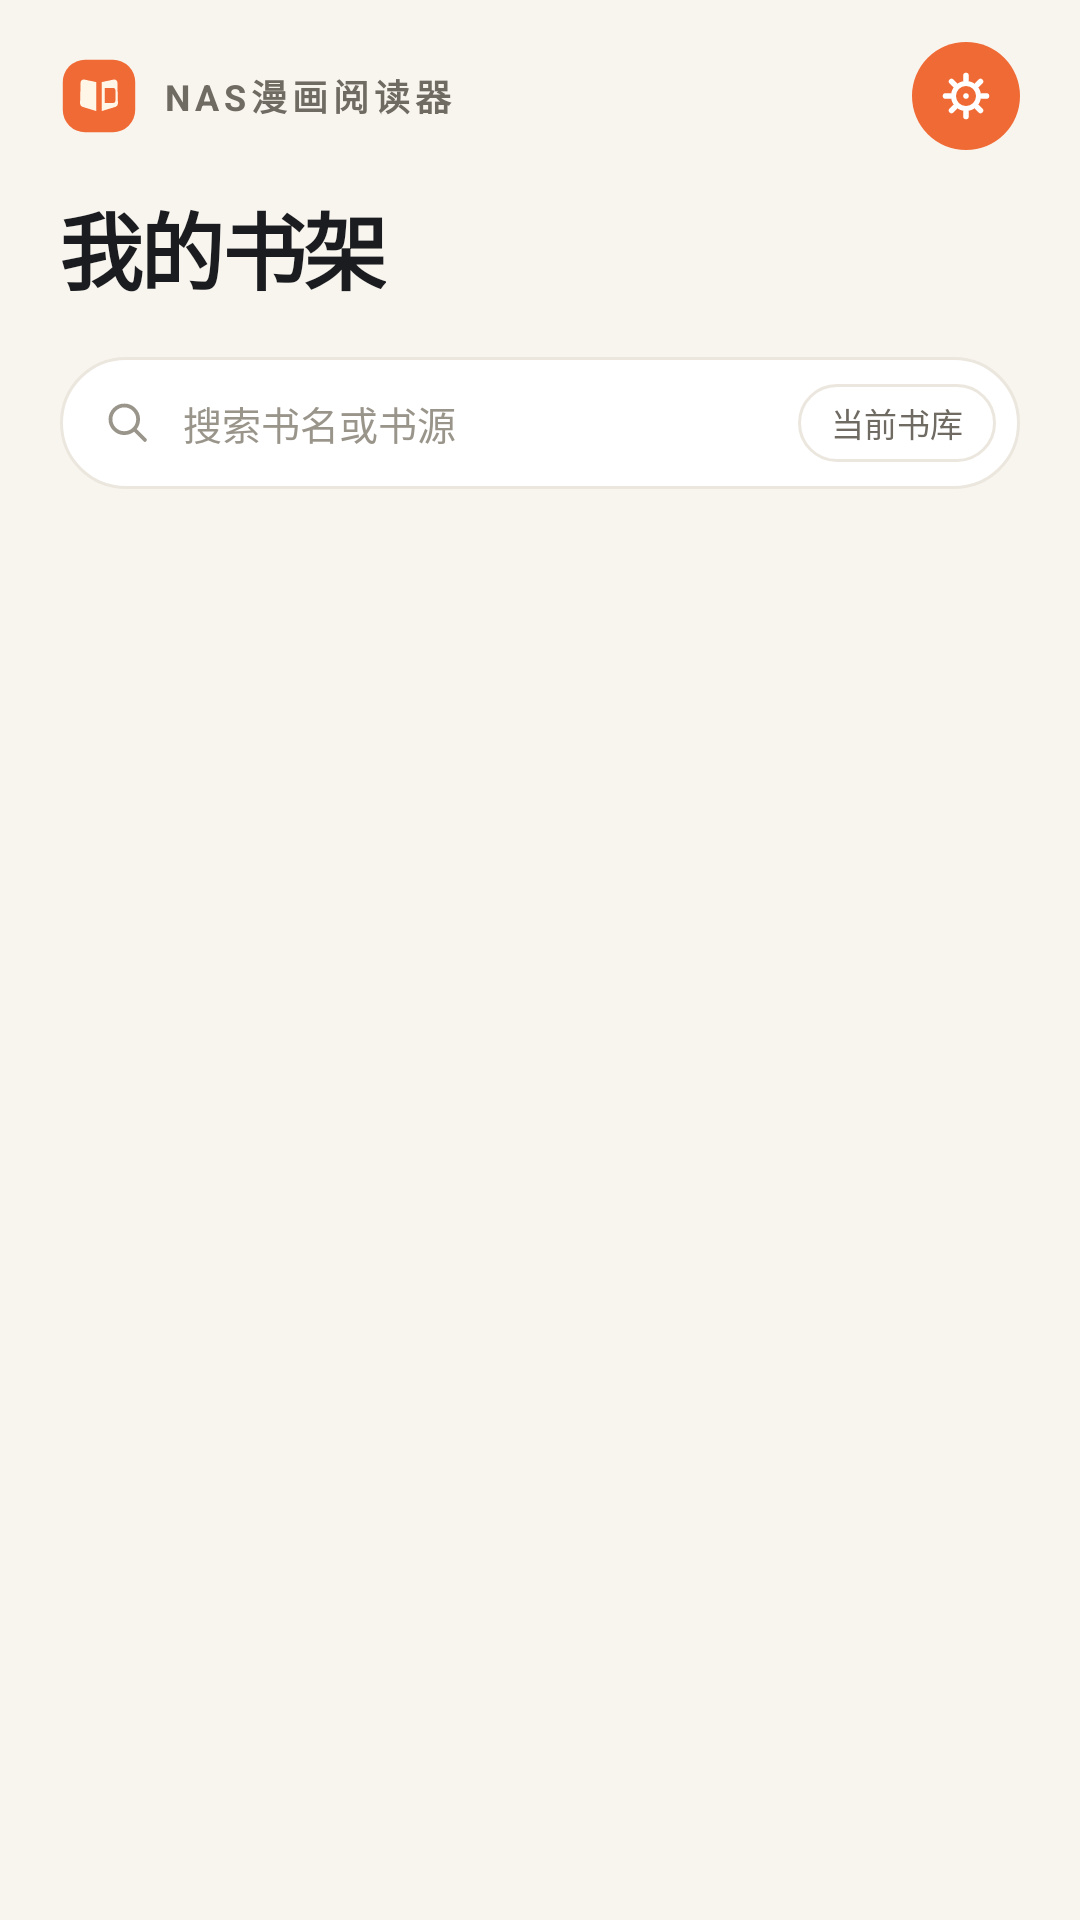

Icon click points for this 1080 × 1920 phone screenshot, format (x,y):
search: (127,422)
设置: (966,96)
